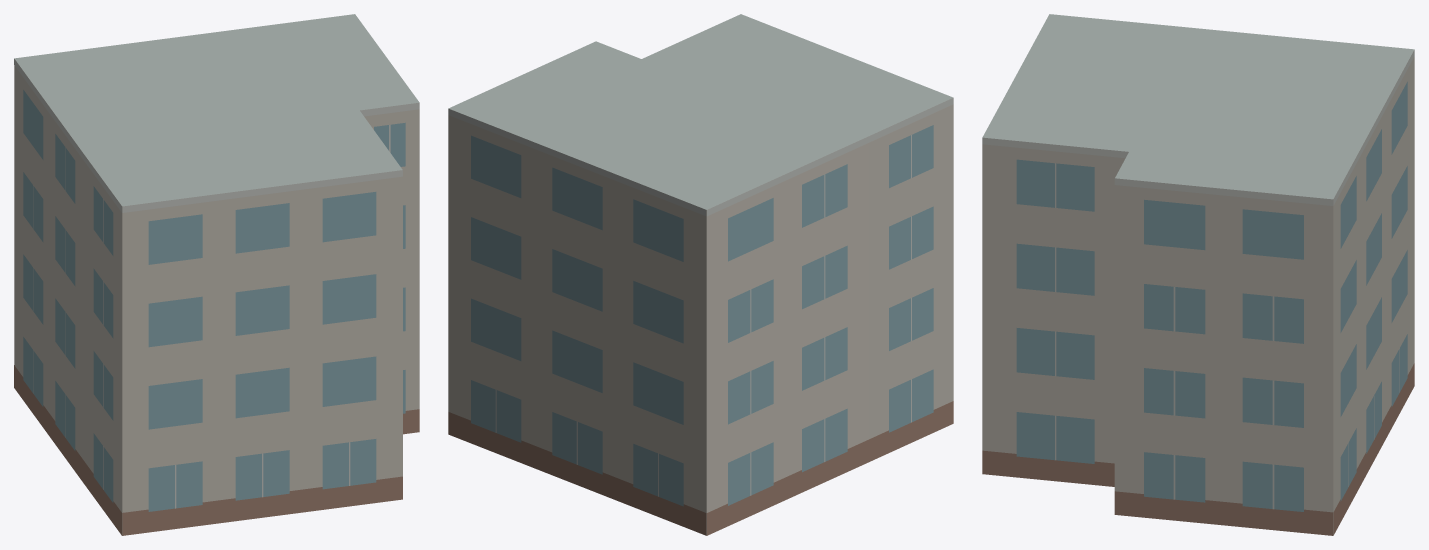
The model's file is residential-68630b0b-c6ac-4cd8-83ee-4c0f0566ae7d.glb.
3 views of the same model, side by side, from view 1: azimuth 30°, elevation 25°; view 2: azimuth 150°, elevation 25°; view 3: azimuth 270°, elevation 25° (orthographic). The views are drawn at different scales.
Parts seen in each view (by area): view 1: residential-68630b0b-c6ac-4cd8-83ee-4c0f0566ae7d.tmp; view 2: residential-68630b0b-c6ac-4cd8-83ee-4c0f0566ae7d.tmp; view 3: residential-68630b0b-c6ac-4cd8-83ee-4c0f0566ae7d.tmp.
Boxes of the visible parts, x1,y1,x2,y2 form: residential-68630b0b-c6ac-4cd8-83ee-4c0f0566ae7d.tmp: (14, 14, 419, 535); residential-68630b0b-c6ac-4cd8-83ee-4c0f0566ae7d.tmp: (448, 14, 953, 535); residential-68630b0b-c6ac-4cd8-83ee-4c0f0566ae7d.tmp: (982, 14, 1414, 535).
Size of the model in its own units: 14.42 by 12.2 by 14.22.
